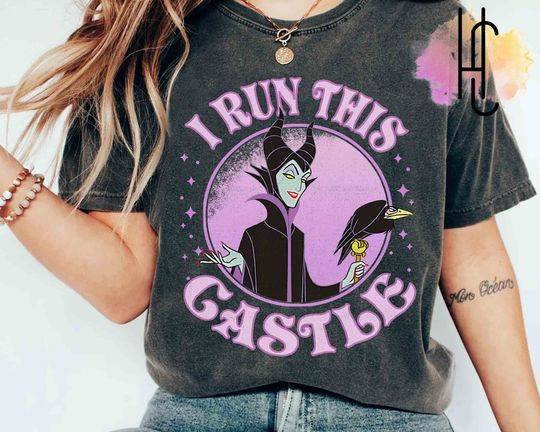design: (177, 73, 419, 358)
